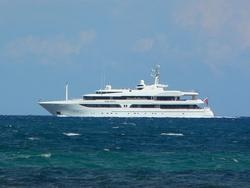yacht: (37, 66, 217, 117)
